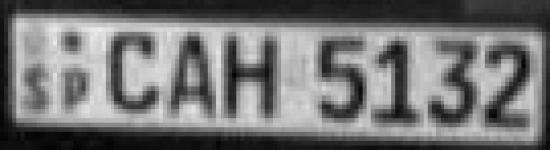1: (369, 32, 424, 131)
2: (480, 35, 536, 133)
3: (421, 35, 481, 129)
5: (306, 31, 369, 127)
A: (165, 29, 218, 123)
C: (99, 26, 164, 116)
H: (218, 29, 282, 129)
P: (56, 63, 94, 119)
S: (21, 61, 53, 113)
